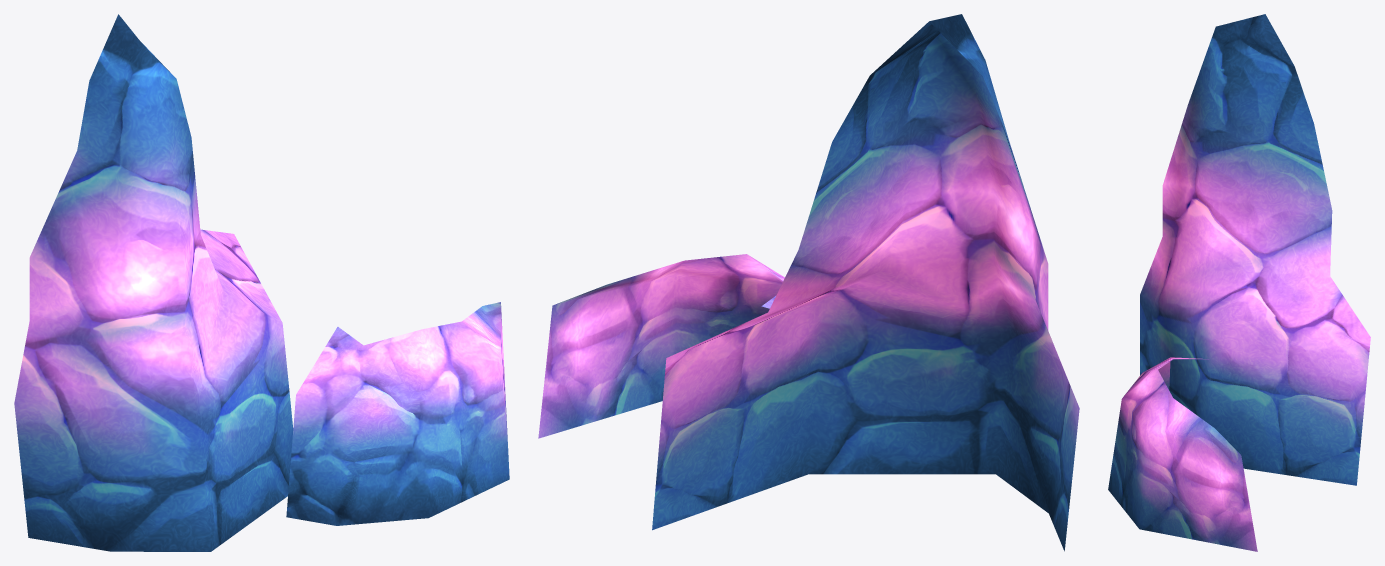
Rendered from decoracionInicioPiedras.fbx.
3 views of the same model, side by side, from view 1: azimuth 30°, elevation 25°; view 2: azimuth 150°, elevation 25°; view 3: azimuth 270°, elevation 25° (orthographic). The views are drawn at different scales.
Visible parts, largest first — view 1: Cube, Plane; view 2: Cube, Plane; view 3: Cube, Plane.
Part boxes in pixels (left/top/right/bottom): Cube: left=14, top=14, right=293, bottom=551; Plane: left=286, top=302, right=509, bottom=525; Cube: left=652, top=14, right=1079, bottom=551; Plane: left=538, top=254, right=784, bottom=438; Cube: left=1140, top=14, right=1370, bottom=485; Plane: left=1108, top=357, right=1257, bottom=551.
Bounding box in the file's own units: 297 × 279 × 170.
